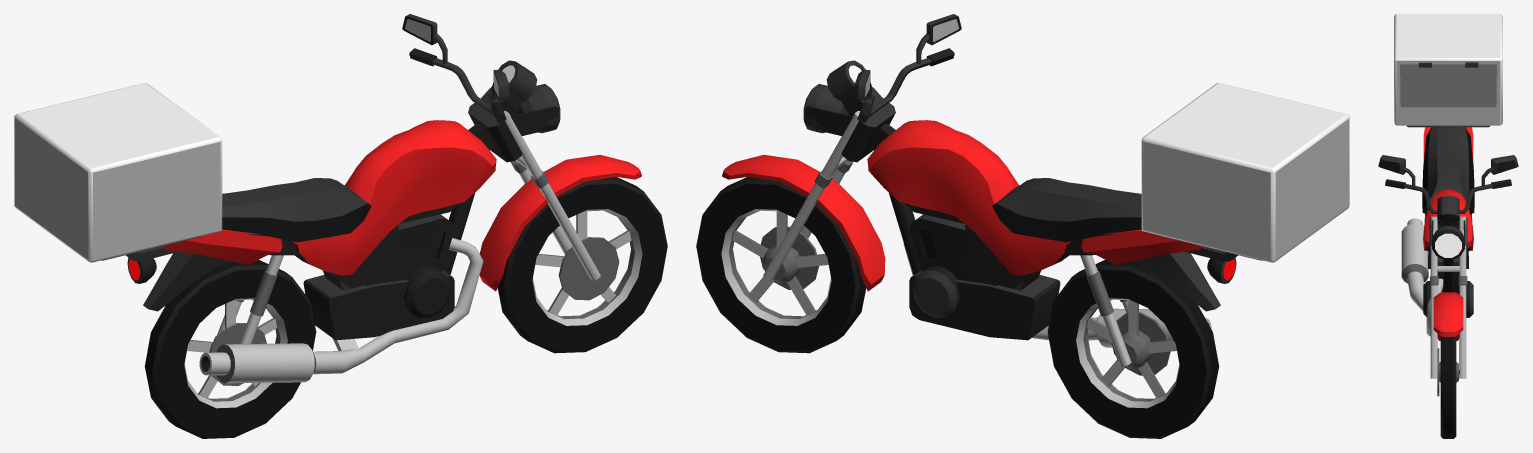
The model's file is Bike_009.glb.
3 views of the same model, side by side, from view 1: azimuth 30°, elevation 25°; view 2: azimuth 150°, elevation 25°; view 3: azimuth 270°, elevation 25° (orthographic). The views are drawn at different scales.
Parts seen in each view (by area): view 1: Bike_009, wheel_0_Bike_009_Wheel_1L, wheel_1_Bike_009_Wheel_2R; view 2: Bike_009, wheel_0_Bike_009_Wheel_1L, wheel_1_Bike_009_Wheel_2R; view 3: Bike_009, wheel_0_Bike_009_Wheel_1L.
Boxes of the visible parts, x1,y1,x2,y2 form: Bike_009: (14,14,600,383); wheel_0_Bike_009_Wheel_1L: (479,154,667,353); wheel_1_Bike_009_Wheel_2R: (144,259,316,438); Bike_009: (763,14,1349,366); wheel_0_Bike_009_Wheel_1L: (696,154,885,353); wheel_1_Bike_009_Wheel_2R: (1047,259,1219,438); Bike_009: (1378,14,1518,378); wheel_0_Bike_009_Wheel_1L: (1433,292,1463,438).
Bounding box in the file's own units: 2.67 × 1.4 × 0.7526.
Materials: 2 (2 with a texture image).
